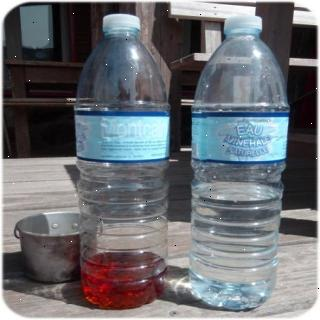Plastic-bottle: (191, 10, 298, 316), (67, 15, 176, 315)
